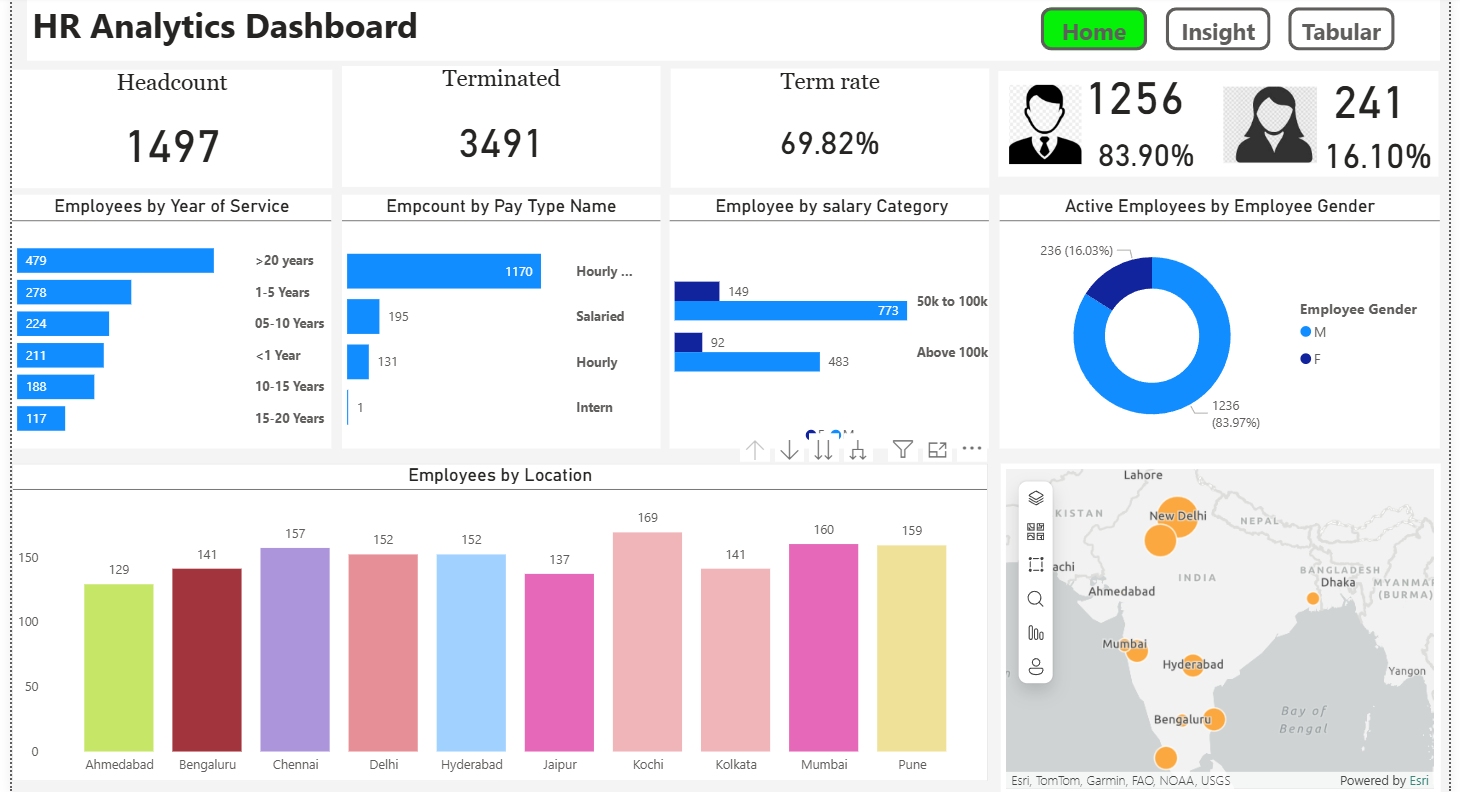

This screenshot's page, from the dashboard's own definition file:
{"tool":"powerbi","page":{"name":"Home","canvas":[1350,750],"ordinal":0},"visuals":[{"type":"textbox","box":[14.5,0,1327.1,60.8],"z":0},{"type":"shape","box":[927.5,70.7,413.5,99.3],"z":0,"group":"g1"},{"type":"card","title":"Headcount","fields":{"Values":["Employees.Empcount"]},"box":[0,68.8,300.6,110.8],"z":1000},{"type":"card","title":"Terminated","fields":{"Values":["Employees.Term_Emp_Count"]},"box":[309.5,66.2,299.3,113.4],"z":2000},{"type":"card","title":"Term rate","fields":{"Values":["Employees.Termination Rate"]},"box":[619.1,67.5,299.3,112.1],"z":3000},{"type":"barChart","title":"Employees by Year of Service","fields":{"Category":["Employees.YOE Bucket"],"Y":["Employees.Empcount"]},"box":[0,187,300.4,238],"z":4000},{"type":"image","box":[918.7,79.2,105.6,84.2],"z":5000,"group":"g1"},{"type":"barChart","fields":{"Category":["Employees.Pay Type Name"],"Y":["Employees.Empcount"]},"box":[309.5,187.2,299.3,238.2],"z":5000},{"type":"card","fields":{"Values":["Employees.Female Count%"]},"box":[1217.1,109.1,133.2,77.9],"z":6000,"group":"g1"},{"type":"clusteredBarChart","title":"Employee by salary Category","fields":{"Category":["Employees.salary Bucket"],"Y":["Employees.Empcount"],"Series":["Employees.Employee Gender"]},"box":[617.8,187,300.4,238],"z":6000},{"type":"group","id":"g1","title":"Group 1","box":[918.7,48.2,431.6,138.9],"z":7000},{"type":"card","fields":{"Values":["Employees.Male Count%"]},"box":[997.5,116.2,137.4,63.8],"z":7000,"group":"g1"},{"type":"donutChart","fields":{"Y":["Employees.Active Employees"],"Category":["Employees.Employee Gender"]},"box":[927.3,187.2,414,238.2],"z":8000},{"type":"card","fields":{"Values":["Employees.Male Count"]},"box":[997.5,48.2,114.8,86.4],"z":9000,"group":"g1"},{"type":"columnChart","title":"Employees by Location","fields":{"Category":["Employees.Location","Employees.HK Job Function"],"Y":["Employees.Empcount"]},"box":[0,439.5,917.1,299.3],"z":9000},{"type":"esriVisual","fields":{"Location":["Employees.Location"],"Size":["Sum(Employees.Salary)"]},"box":[928.6,439.5,412.7,310.8],"z":10000},{"type":"actionButton","box":[966.8,10.1,99.9,40.5],"z":11000},{"type":"card","fields":{"Values":["Employees.Female Count"]},"box":[1210.1,61,131.8,68],"z":11000,"group":"g1"},{"type":"actionButton","box":[1084,10.1,98.4,40.5],"z":12000},{"type":"actionButton","box":[1198.3,10.1,99.9,40.5],"z":13000},{"type":"image","box":[1133.6,76.5,97.8,89.3],"z":13000,"group":"g1"}]}

Visuals, with their boxes in screenshot pixels (x1, y1, x2, y2), scaled from the page's 1350x750 canvas onto the 1460x792 screenshot:
textbox: 16,0,1451,64
shape: 1003,75,1450,180
"Headcount" card: 0,73,325,190
"Terminated" card: 335,70,658,190
"Term rate" card: 670,71,993,190
"Employees by Year of Service" barChart: 0,197,325,449
image: 994,84,1108,173
barChart - Employees.Pay Type Name x Employees.Empcount: 335,198,658,449
card - Employees.Female Count%: 1316,115,1459,197
"Employee by salary Category" clusteredBarChart: 668,197,993,449
"Group 1" group: 994,51,1459,198
card - Employees.Male Count%: 1079,123,1227,190
donutChart - Employees.Active Employees x Employees.Employee Gender: 1003,198,1451,449
card - Employees.Male Count: 1079,51,1203,142
"Employees by Location" columnChart: 0,464,992,780
esriVisual - Employees.Location x Sum(Employees.Salary): 1004,464,1451,791
actionButton: 1046,11,1154,53
card - Employees.Female Count: 1309,64,1451,136
actionButton: 1172,11,1279,53
actionButton: 1296,11,1404,53
image: 1226,81,1332,175
